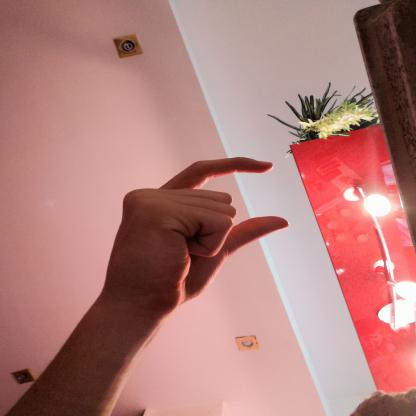DELL: (87, 146, 302, 321)
